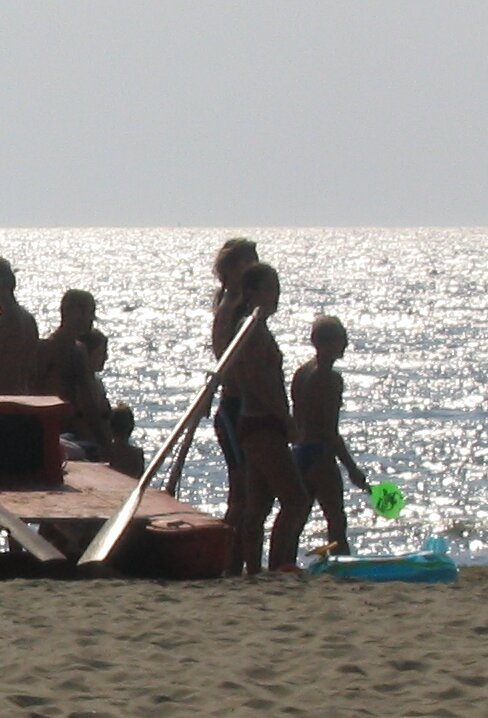person: (212, 264, 323, 582)
